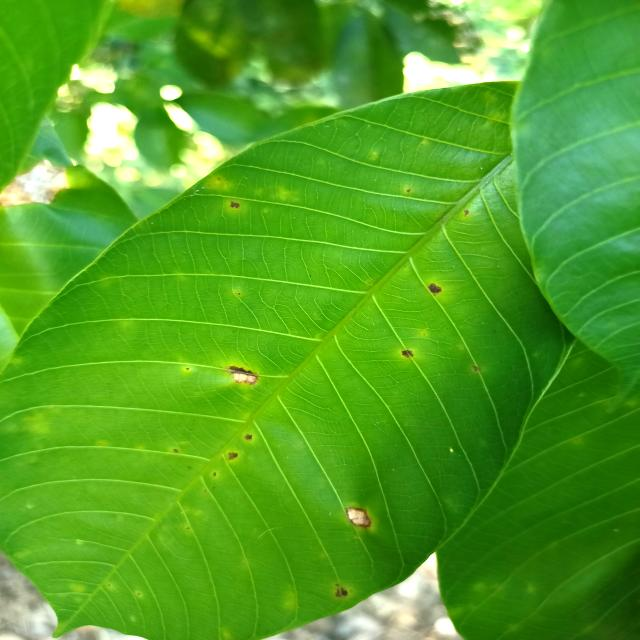Leaf-Blight: (346, 507, 372, 528), (232, 373, 257, 383)
